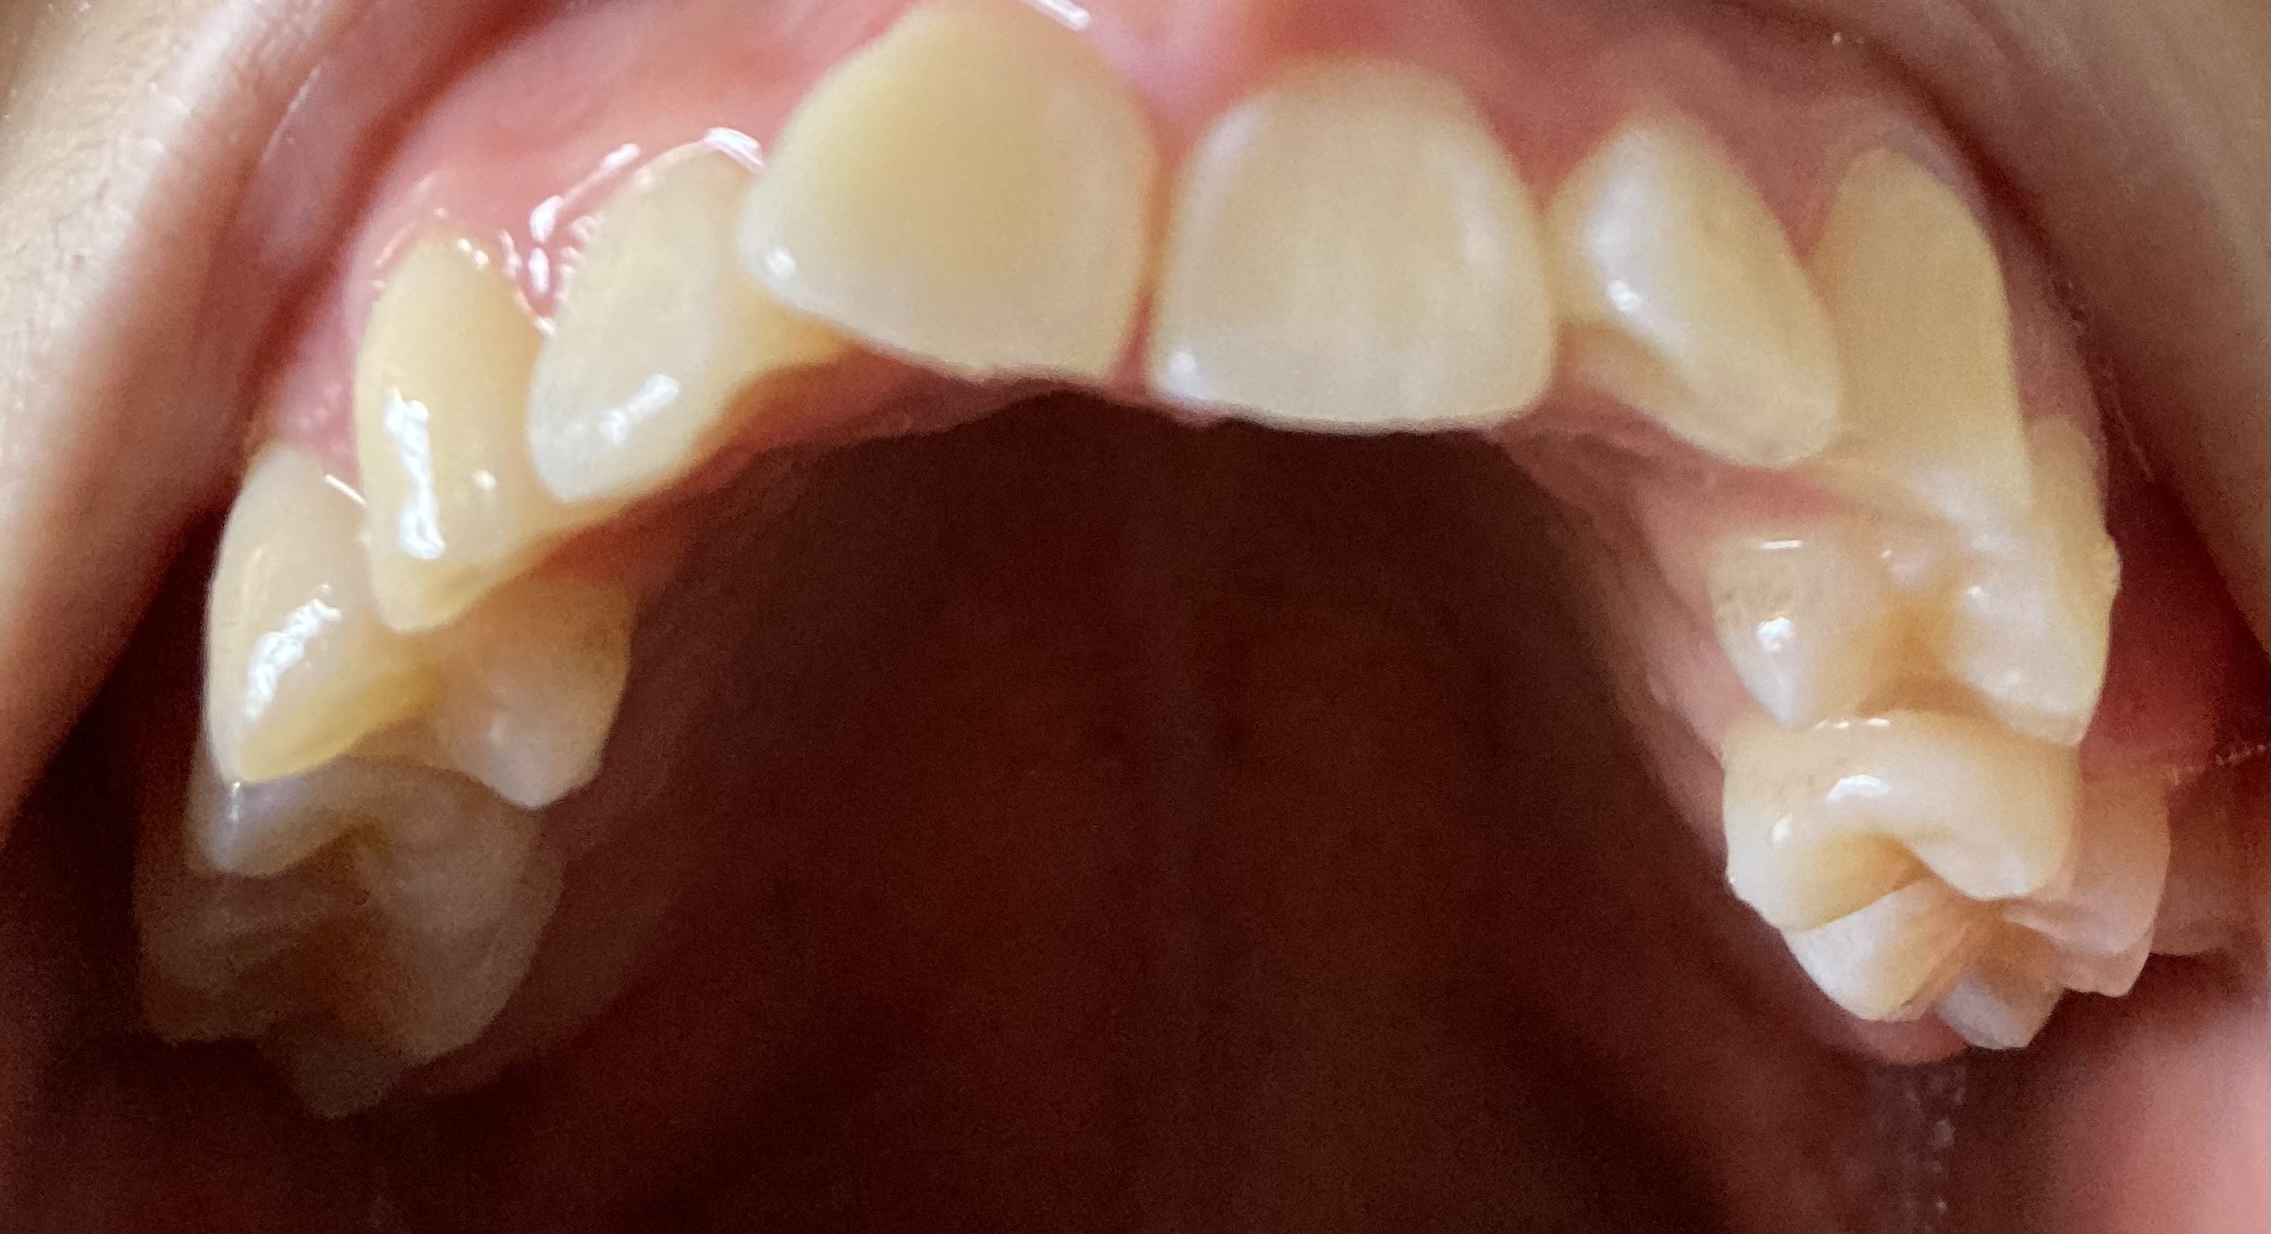teeth: (755, 0, 1147, 368), (222, 456, 612, 807), (1183, 81, 1545, 412), (1718, 460, 2089, 732), (1566, 126, 1838, 456), (544, 155, 798, 489), (1821, 164, 2031, 520), (368, 254, 538, 626)
